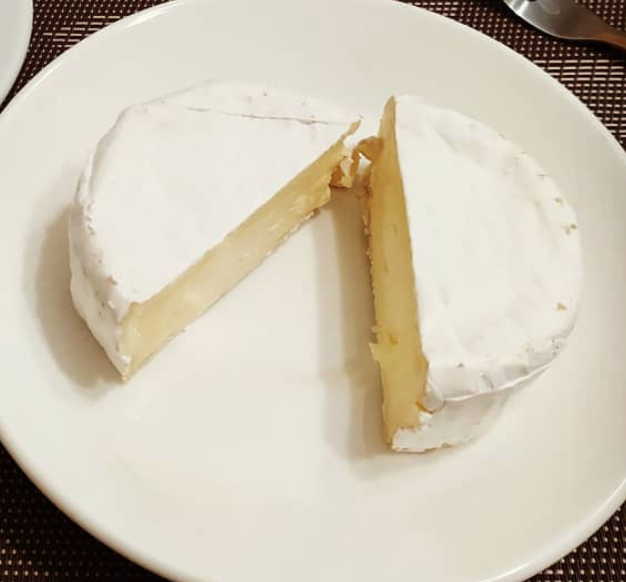camembert: (67, 79, 364, 385), (362, 92, 579, 454)
